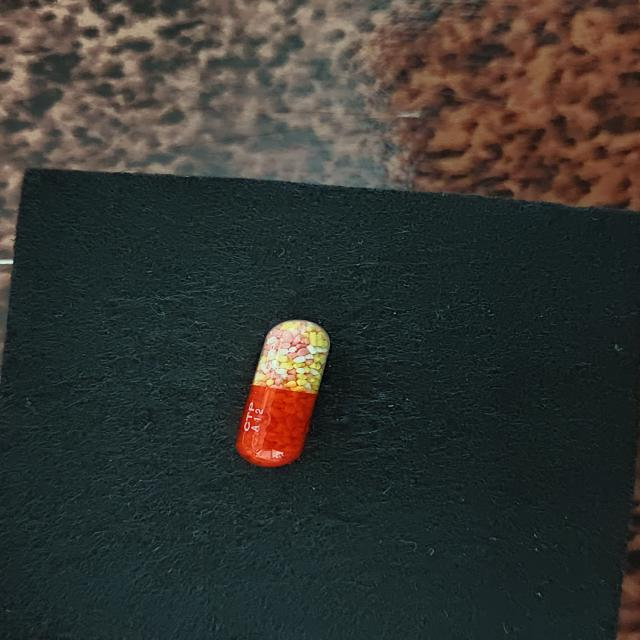Intact Capsule: (235, 319, 330, 467)
